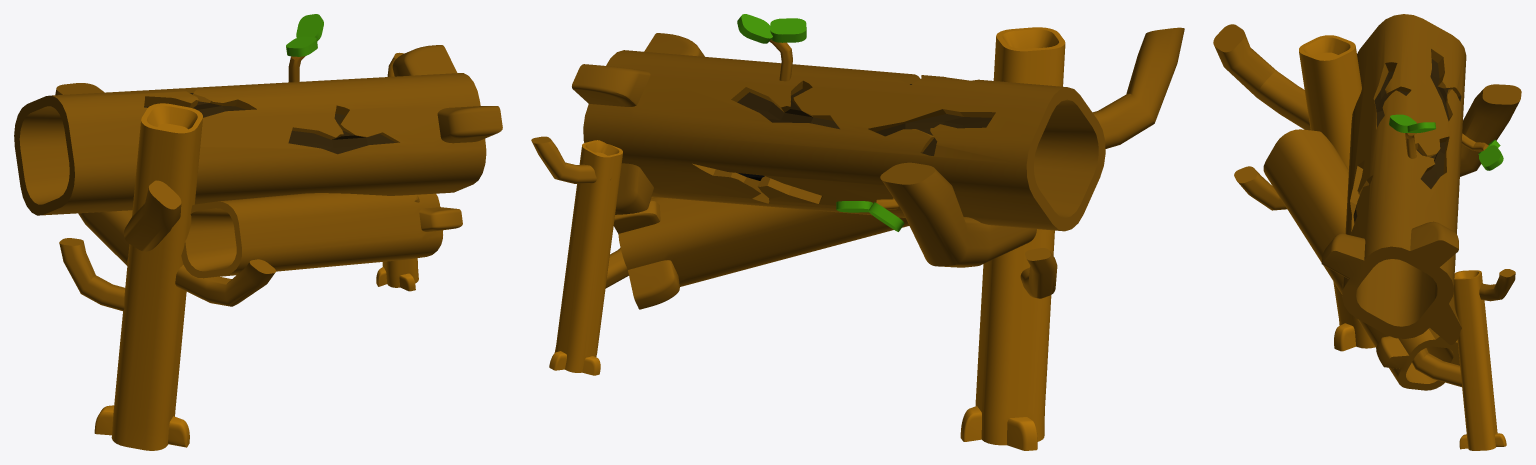
Rendered from breakable_1.fbx.
The picture shows the model from 3 angles, left to right: view 1: azimuth 30°, elevation 25°; view 2: azimuth 150°, elevation 25°; view 3: azimuth 270°, elevation 25°; orthographic projection. The views are drawn at different scales.
Visible parts, largest first — view 1: Cube.387; view 2: Cube.387; view 3: Cube.387.
Part boxes in pixels (<box>): Cube.387: <box>14,14,502,450</box>; Cube.387: <box>531,14,1184,450</box>; Cube.387: <box>1213,14,1521,450</box>.
Size of the model in its own units: 878 by 682 by 625.
